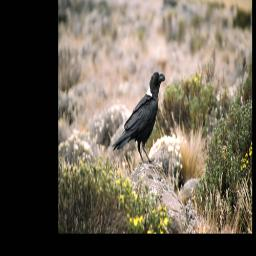Crow: (111, 68, 167, 167)
